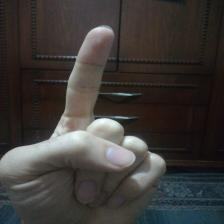one: (9, 21, 170, 220)
